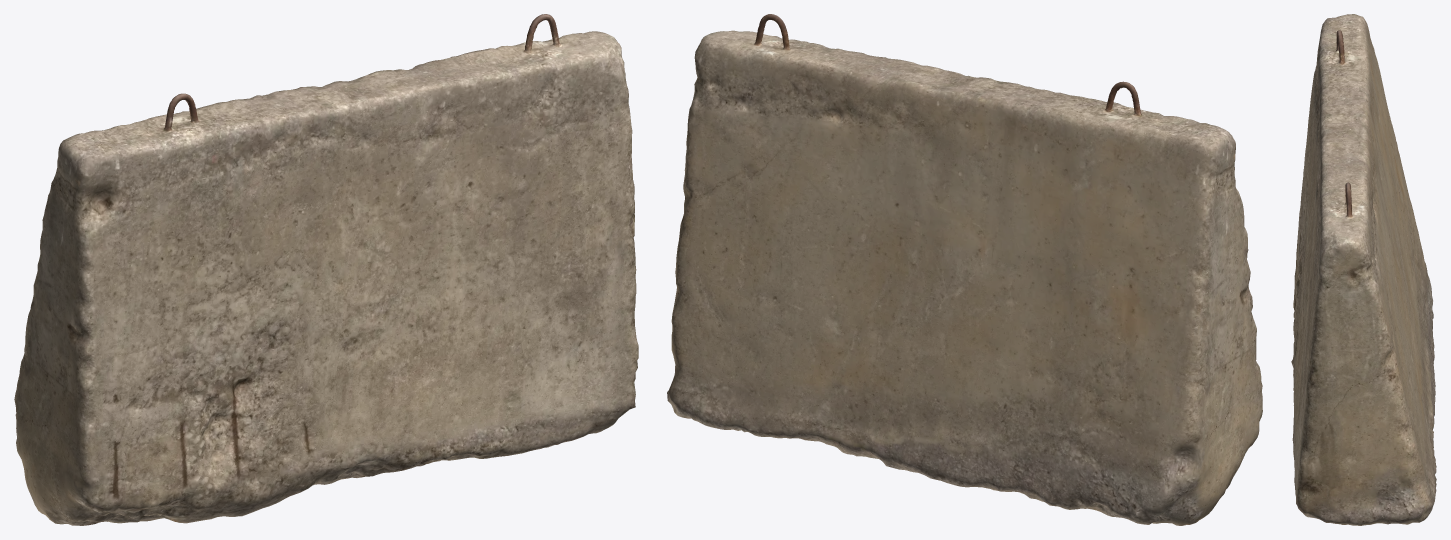
The model's file is concrete_road_barrier_02.glb.
The picture shows the model from 3 angles, left to right: view 1: azimuth 30°, elevation 25°; view 2: azimuth 150°, elevation 25°; view 3: azimuth 270°, elevation 25°; orthographic projection. The views are drawn at different scales.
Parts seen in each view (by area): view 1: concrete_road_barrier_02; view 2: concrete_road_barrier_02; view 3: concrete_road_barrier_02.
Boxes of the visible parts, x1,y1,x2,y2 form: concrete_road_barrier_02: (14, 14, 638, 525); concrete_road_barrier_02: (667, 14, 1262, 525); concrete_road_barrier_02: (1291, 14, 1436, 525).
Size of the model in its own units: 1.57 by 1.11 by 0.4422.
Materials: 1 (1 with a texture image).
